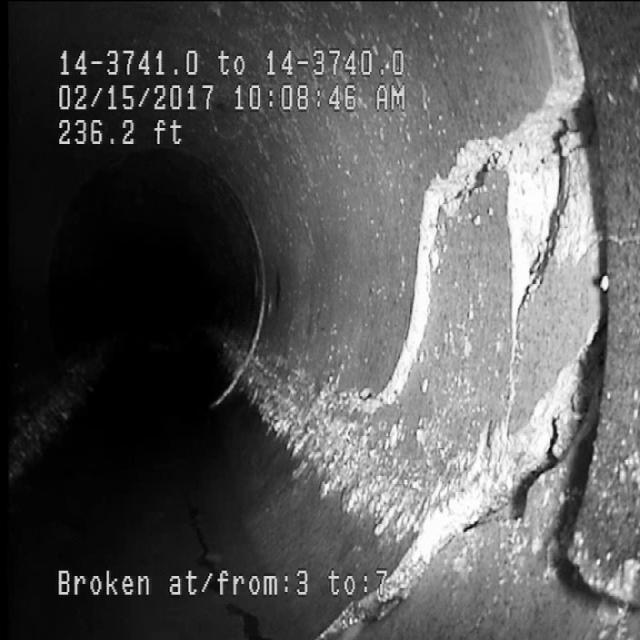Fracture: (393, 104, 622, 500)
